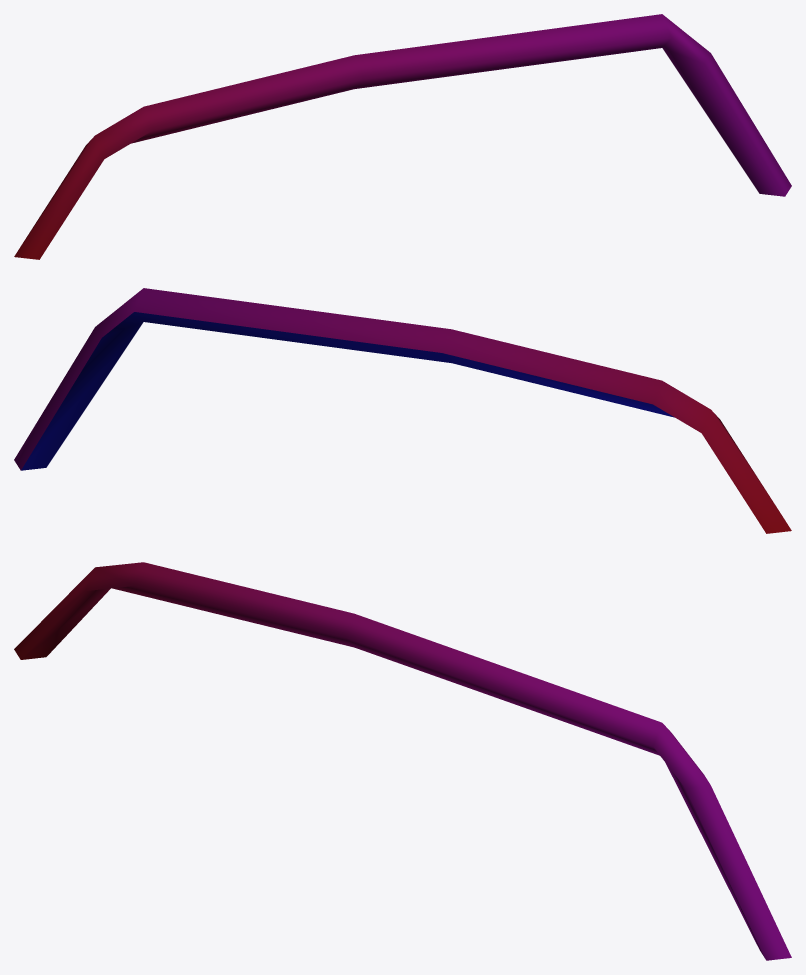
3 views of the same model, one above another, from view 1: azimuth 30°, elevation 25°; view 2: azimuth 150°, elevation 25°; view 3: azimuth 330°, elevation 25° (orthographic).
Parts seen in each view (by area): view 1: part; view 2: part; view 3: part.
Part boxes in pixels (x1,y1,x2,y2): part: (14,14,791,259); part: (14,288,791,533); part: (14,562,791,960).
Size of the model in its own units: 6192 by 1806 by 258.
